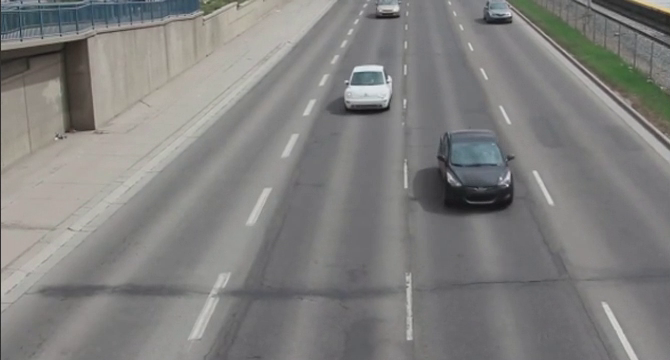car: (435, 126, 515, 214), (343, 62, 396, 116), (371, 1, 401, 21), (483, 1, 513, 21)
